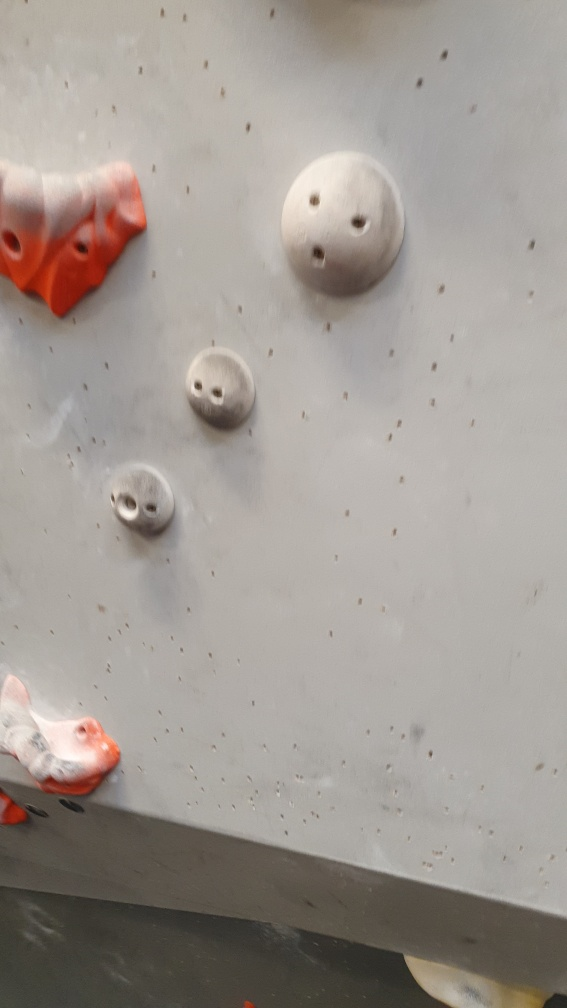Jug: (1, 155, 154, 327), (1, 676, 126, 805)
Sloper: (274, 147, 408, 301), (104, 460, 179, 541), (182, 346, 256, 427)
